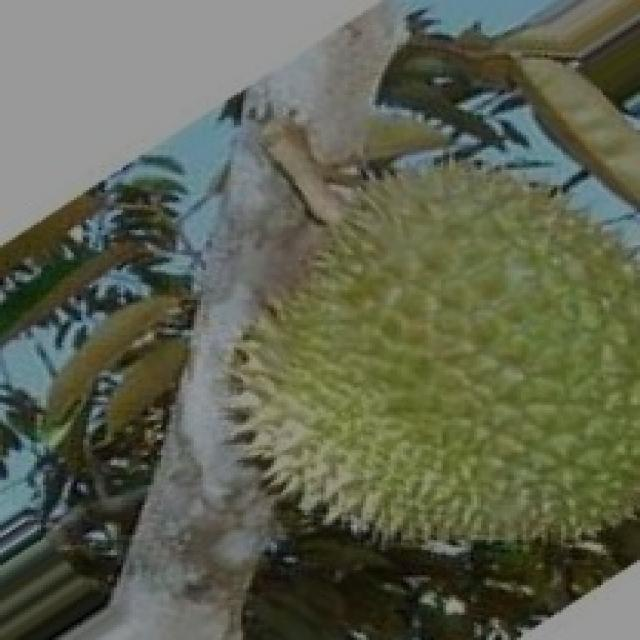fruit: (169, 228, 606, 602)
